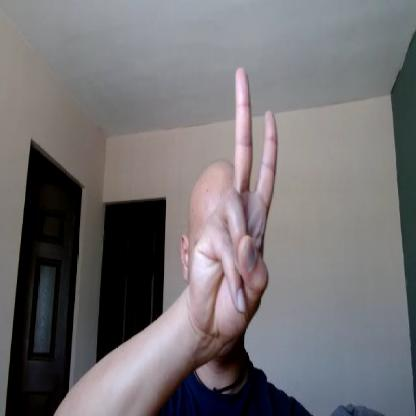V: (189, 67, 277, 340)
